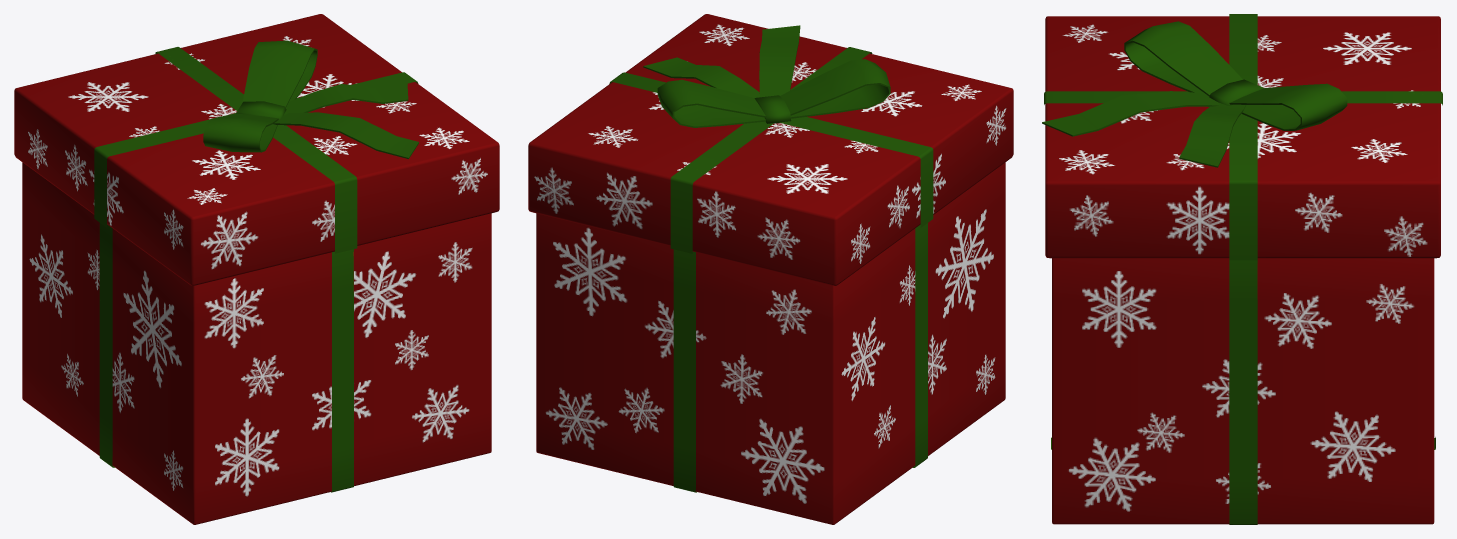
Rendered from GiftBox.fbx.
3 views of the same model, side by side, from view 1: azimuth 30°, elevation 25°; view 2: azimuth 150°, elevation 25°; view 3: azimuth 270°, elevation 25° (orthographic). The views are drawn at different scales.
Parts seen in each view (by area): view 1: Base_box, Box_cover, bow; view 2: Base_box, Box_cover, bow; view 3: Base_box, Box_cover, bow.
Boxes of the visible parts, x1,y1,x2,y2 form: Base_box: (22, 162, 491, 524); Box_cover: (14, 14, 499, 285); bow: (203, 40, 418, 158); Base_box: (536, 162, 1005, 524); Box_cover: (528, 14, 1013, 285); bow: (643, 25, 890, 127); Base_box: (1051, 258, 1435, 524); Box_cover: (1044, 14, 1442, 260); bow: (1042, 21, 1347, 167).
Size of the model in its own units: 13073 by 13889 by 13134.
1 material, 1 textured.
